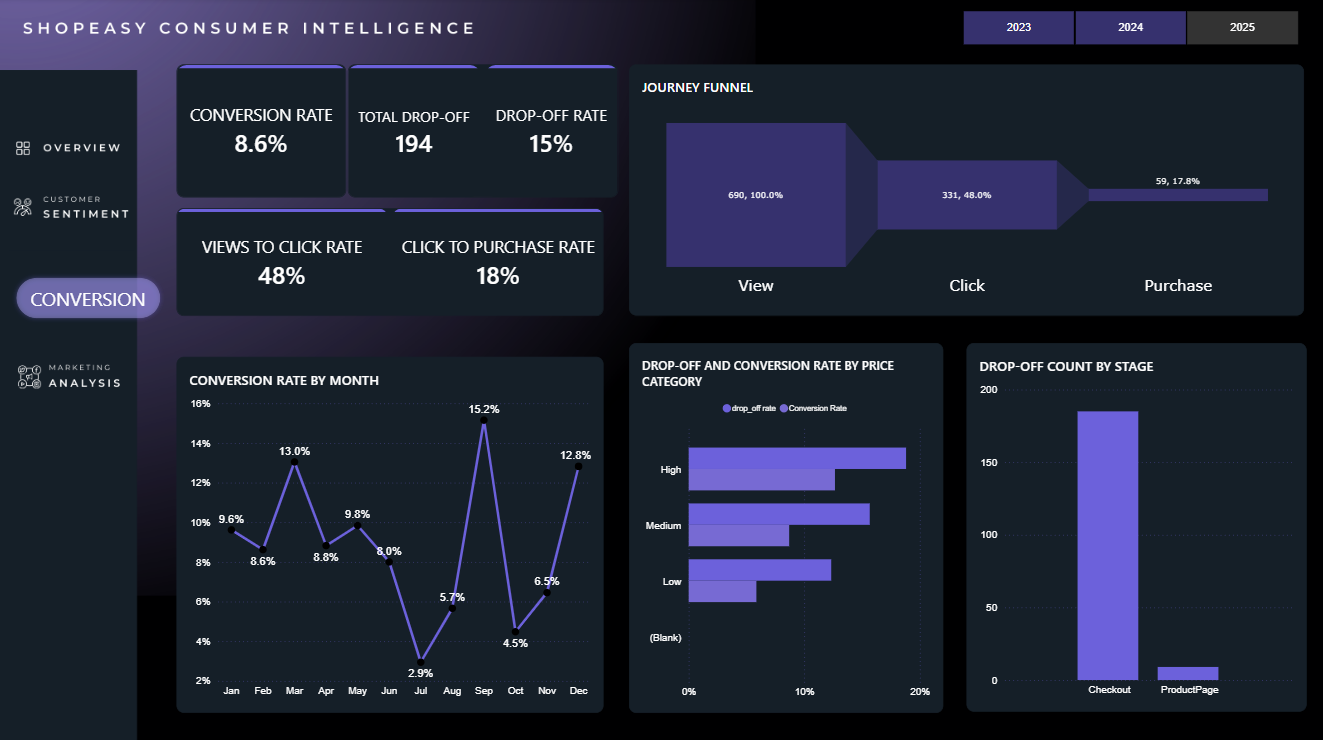

This screenshot's page, from the dashboard's own definition file:
{"tool":"powerbi","page":{"name":"Conversion Analysis","canvas":[1600,900],"ordinal":2},"visuals":[{"type":"cardVisual","fields":{"Data":["calculations.Conversion Rate"]},"box":[214.8,80.3,204.9,160.7],"z":0},{"type":"cardVisual","fields":{"Data":["calculations.Total Dropoffs","calculations.drop_off rate"]},"box":[420.2,79.8,326.7,161],"z":1000},{"type":"columnChart","title":"DROP-OFF COUNT BY STAGE","fields":{"Category":["customer_journey_cleaned.Stage"],"Y":["CountNonNull(customer_journey_cleaned.JourneyID)"]},"box":[1166.7,416.7,410,445],"z":2000},{"type":"clusteredBarChart","title":"DROP-OFF AND CONVERSION RATE BY PRICE CATEGORY","fields":{"Category":["products.Price Category"],"Y":["calculations.drop_off rate","calculations.Conversion Rate"]},"box":[760.7,415.6,378.8,446.3],"z":3000},{"type":"cardVisual","fields":{"Data":["calculations.View to Click Rate","calculations.Click to Purchase Rate"]},"box":[214.7,253.1,515.3,130.4],"z":4000},{"type":"stackedhorizontalfunnelEC4E2CF18990EF8267C380787C9A6BC9","title":"JOURNEY FUNNEL","fields":{"col_0":["customer_journey_cleaned.Action"],"col_1":["CountNonNull(customer_journey_cleaned.JourneyID)"]},"box":[760.7,80.3,814.8,303.3],"z":5000},{"type":"lineChart","title":"CONVERSION RATE BY MONTH","fields":{"Category":["Calendar.MonthNameShort"],"Y":["calculations.Conversion Rate"]},"box":[214.7,432.5,515.3,429.5],"z":6000},{"type":"slicer","fields":{"Values":["Calendar.Date.Variation.Date Hierarchy.Year"]},"box":[1142.6,13.1,442.6,44.3],"z":7000},{"type":"shape","box":[11.7,305,150,111.7],"z":8000},{"type":"shape","box":[0,316.7,215,90],"z":9000},{"type":"pageNavigator","box":[0,131.7,183.3,100],"z":10000},{"type":"pageNavigator","box":[0,205,183.3,100],"z":11000},{"type":"pageNavigator","box":[0,400,183.3,100],"z":12000}]}

Visuals, with their boxes in screenshot pixels (x1, y1, x2, y2), scaled from the page's 1600x900 canvas onto the 1323x740 screenshot:
cardVisual - calculations.Conversion Rate: locate(178, 66, 347, 198)
cardVisual - calculations.Total Dropoffs x calculations.drop_off rate: locate(347, 66, 618, 198)
"DROP-OFF COUNT BY STAGE" columnChart: locate(965, 343, 1304, 709)
"DROP-OFF AND CONVERSION RATE BY PRICE CATEGORY" clusteredBarChart: locate(629, 342, 942, 709)
cardVisual - calculations.View to Click Rate x calculations.Click to Purchase Rate: locate(178, 208, 604, 315)
"JOURNEY FUNNEL" stackedhorizontalfunnelEC4E2CF18990EF8267C380787C9A6BC9: locate(629, 66, 1303, 315)
"CONVERSION RATE BY MONTH" lineChart: locate(178, 356, 604, 709)
slicer - Calendar.Date.Variation.Date Hierarchy.Year: locate(945, 11, 1311, 47)
shape: locate(10, 251, 134, 343)
shape: locate(0, 260, 178, 334)
pageNavigator: locate(0, 108, 152, 191)
pageNavigator: locate(0, 169, 152, 251)
pageNavigator: locate(0, 329, 152, 411)
